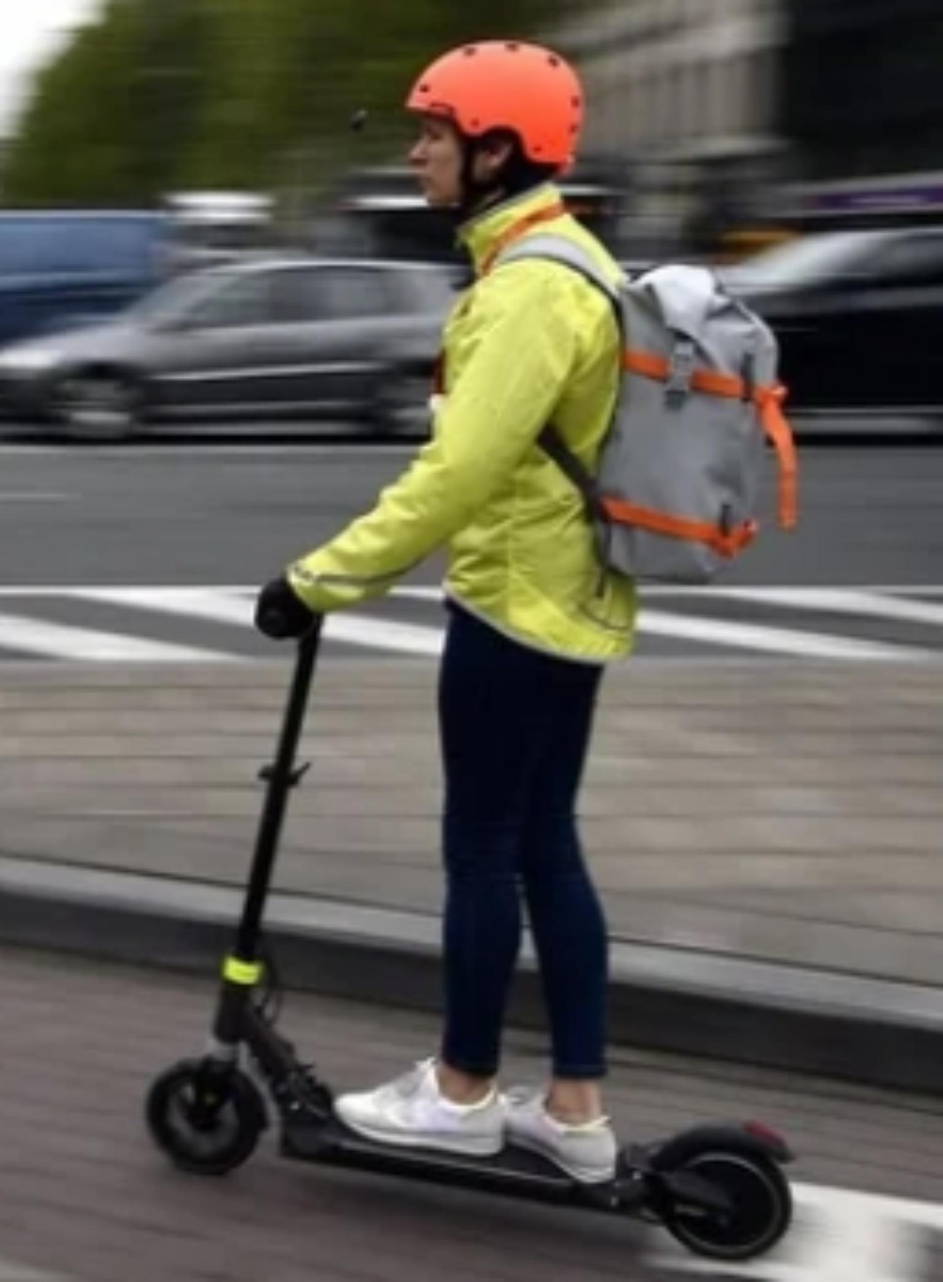helmet: (374, 29, 607, 248)
human: (272, 27, 622, 1197)
kickboard: (144, 1028, 796, 1261)
